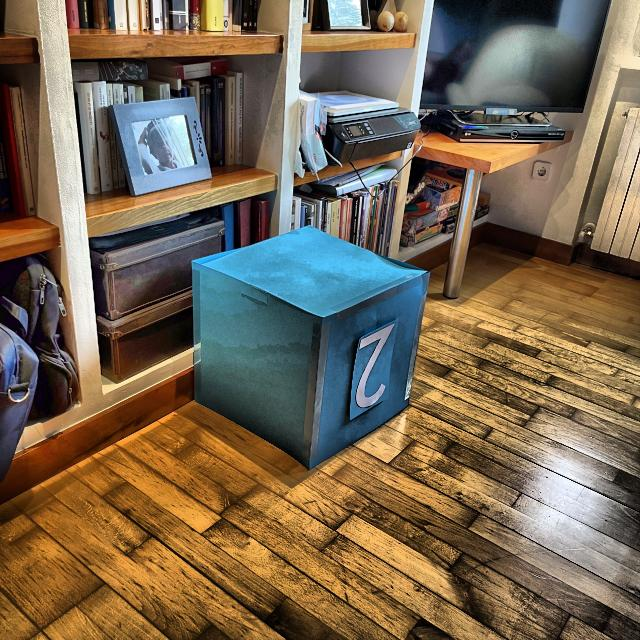blue box: (186, 221, 435, 474)
two: (349, 318, 398, 414)
